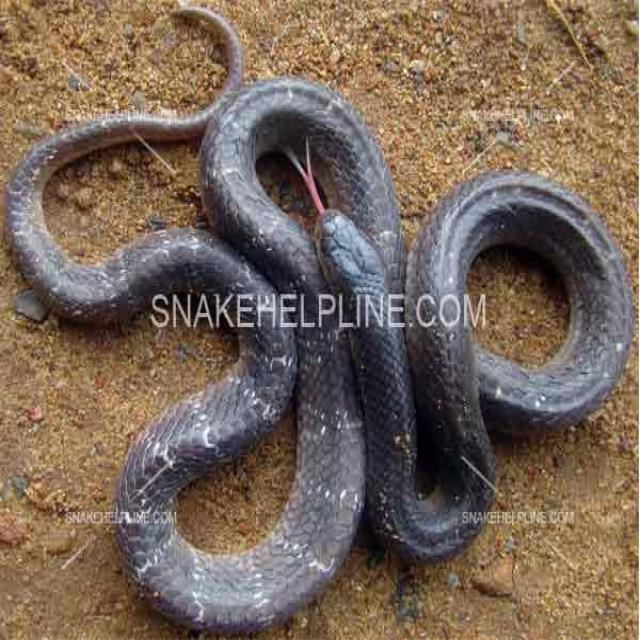Snake: (6, 0, 634, 632)
